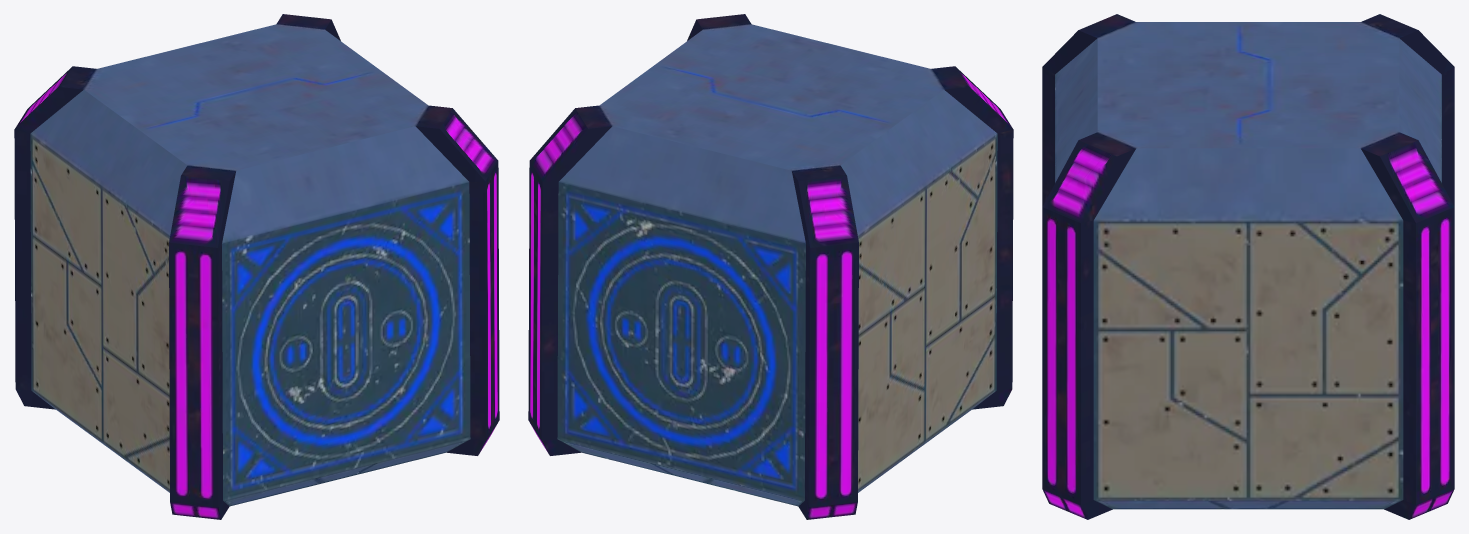
Rendered from env-crate-neon.glb.
3 views of the same model, side by side, from view 1: azimuth 30°, elevation 25°; view 2: azimuth 150°, elevation 25°; view 3: azimuth 270°, elevation 25° (orthographic). The views are drawn at different scales.
Visible parts, largest first — view 1: defaultMaterial; view 2: defaultMaterial; view 3: defaultMaterial.
Boxes of the visible parts, <box> form: defaultMaterial: <box>14,14,499,519</box>; defaultMaterial: <box>528,14,1013,519</box>; defaultMaterial: <box>1042,14,1454,519</box>.
Bounding box in the file's own units: 0.6958 × 0.6534 × 0.6935.
1 material, 1 textured.
